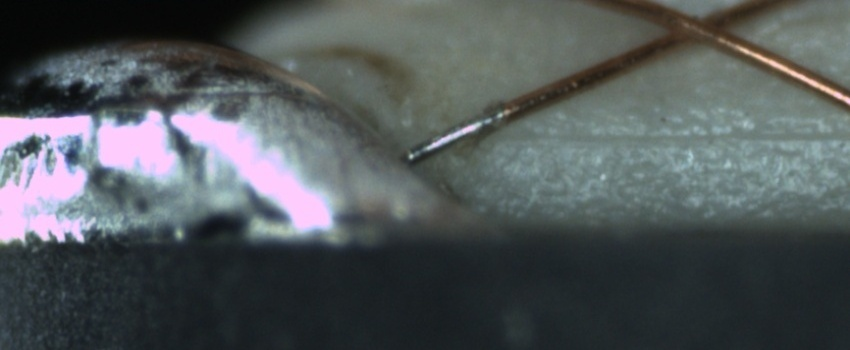CL: (653, 2, 752, 53)
DL: (485, 103, 849, 163)
TS: (403, 107, 508, 163)
